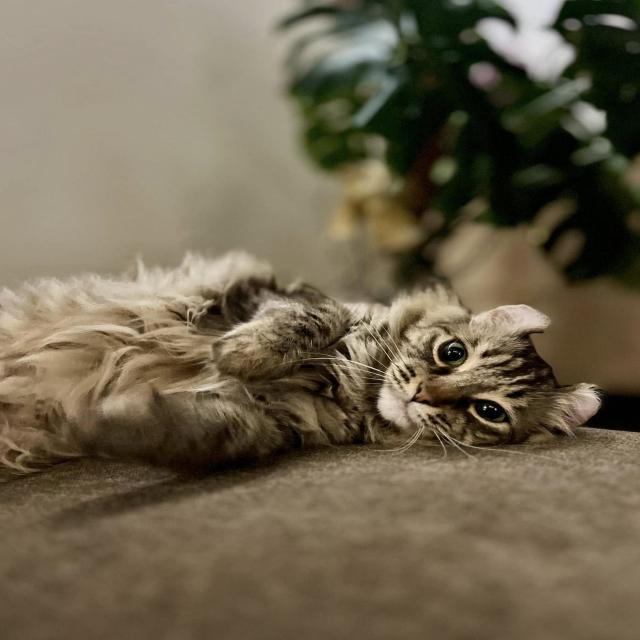American Curl: (0, 245, 607, 489)
